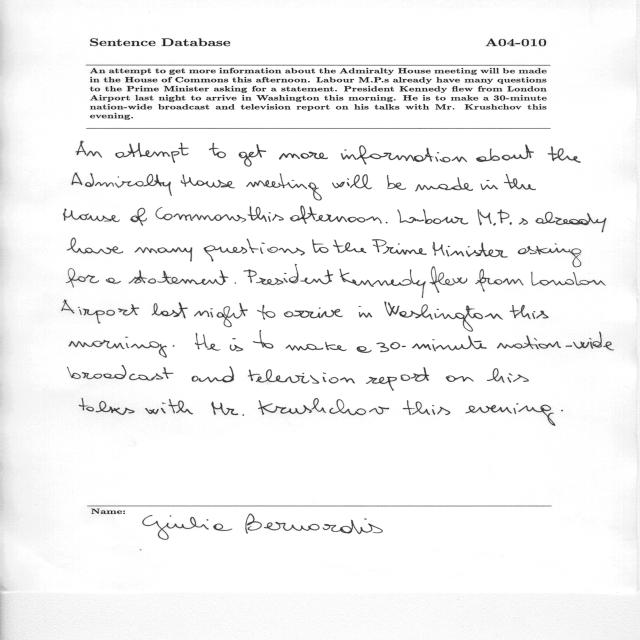word: (385, 301, 504, 332), (340, 268, 426, 298), (341, 145, 467, 165), (204, 239, 305, 262), (72, 173, 172, 196), (258, 398, 389, 415), (497, 332, 614, 351), (466, 403, 556, 426), (69, 337, 167, 358), (246, 174, 322, 201), (244, 264, 334, 285), (62, 300, 139, 324), (377, 336, 487, 352), (68, 365, 174, 381), (290, 206, 381, 224), (248, 369, 355, 384), (518, 244, 582, 268), (366, 367, 429, 391), (129, 270, 229, 285), (115, 143, 189, 163), (536, 212, 607, 232), (155, 207, 246, 222), (194, 303, 247, 327), (433, 242, 508, 258), (398, 209, 469, 225), (475, 269, 524, 292), (531, 272, 606, 286), (476, 144, 534, 162), (430, 266, 468, 293), (79, 398, 135, 415), (67, 238, 123, 254), (372, 239, 427, 255), (135, 247, 193, 262), (477, 209, 528, 226), (415, 178, 473, 192), (181, 175, 235, 189), (63, 209, 120, 222), (191, 366, 234, 383), (145, 399, 193, 414), (403, 400, 450, 415), (66, 268, 99, 288), (284, 308, 343, 319), (487, 368, 529, 383), (239, 144, 266, 167), (332, 175, 372, 190), (247, 206, 284, 222), (152, 303, 188, 319), (548, 146, 581, 163), (286, 342, 347, 351), (510, 305, 549, 319), (504, 174, 536, 190), (211, 401, 244, 416), (195, 333, 220, 351), (76, 141, 102, 158), (333, 240, 367, 253), (279, 152, 328, 160), (253, 331, 273, 349), (130, 208, 147, 226), (387, 175, 406, 190), (257, 305, 275, 320), (209, 143, 226, 158), (312, 239, 329, 253), (446, 375, 474, 382), (230, 338, 243, 352), (480, 180, 498, 190), (359, 306, 372, 318), (357, 346, 372, 353), (106, 278, 121, 284), (173, 345, 175, 347), (561, 410, 563, 412), (386, 222, 388, 223), (235, 282, 236, 284)
